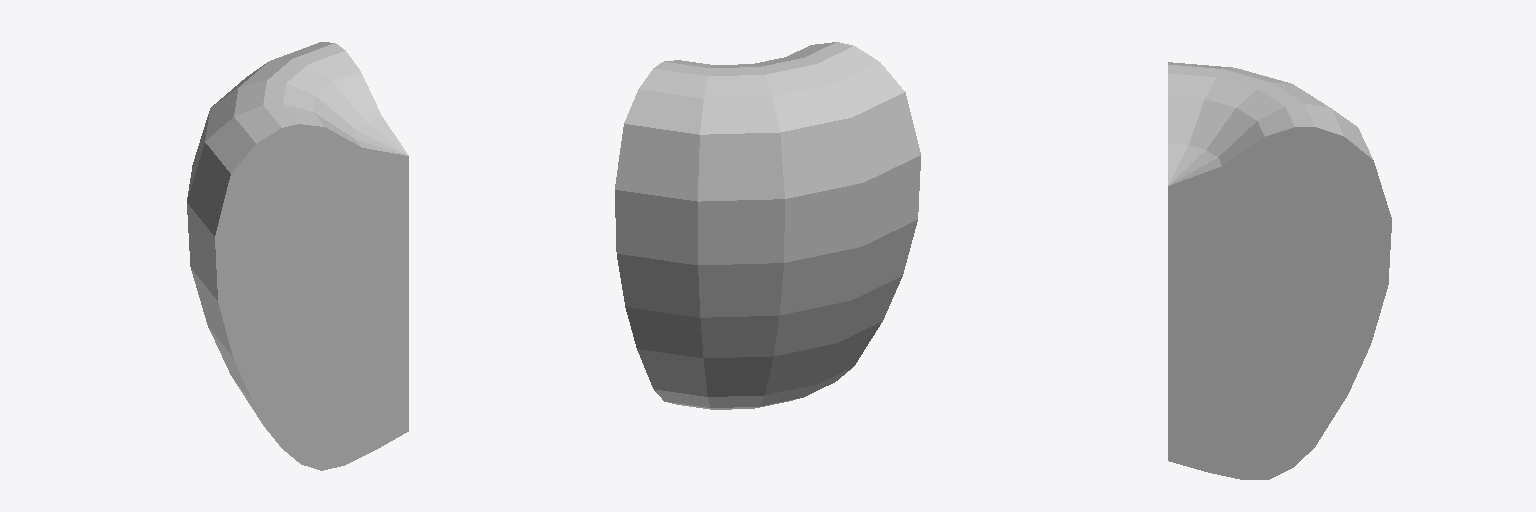
Rendered from Manzana-1_4.obj.
3 views of the same model, side by side, from view 1: azimuth 30°, elevation 25°; view 2: azimuth 150°, elevation 25°; view 3: azimuth 270°, elevation 25° (orthographic).
Visible parts, largest first — view 1: Manzana-1_4_Sphere.007; view 2: Manzana-1_4_Sphere.007; view 3: Manzana-1_4_Sphere.007.
Boxes of the visible parts, x1=… form: Manzana-1_4_Sphere.007: x1=187, y1=42, x2=408, y2=470; Manzana-1_4_Sphere.007: x1=615, y1=42, x2=920, y2=409; Manzana-1_4_Sphere.007: x1=1168, y1=62, x2=1391, y2=479.
Bounding box in the file's own units: 1.83 × 3.18 × 1.83.